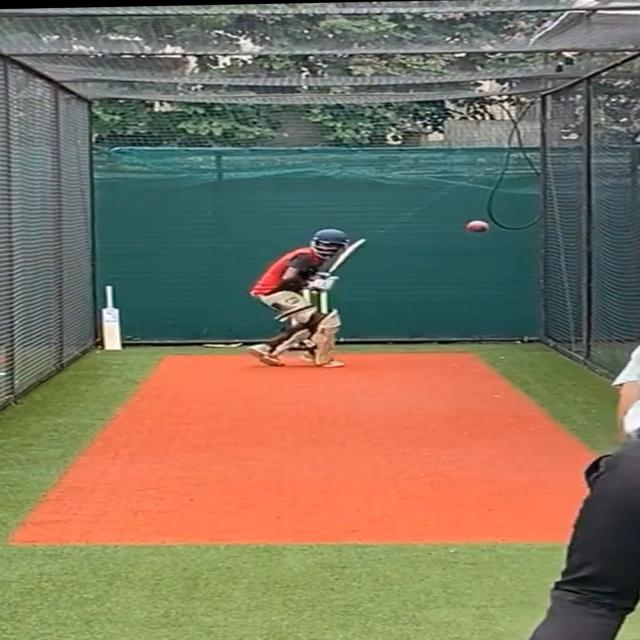ball: (465, 218, 492, 238)
